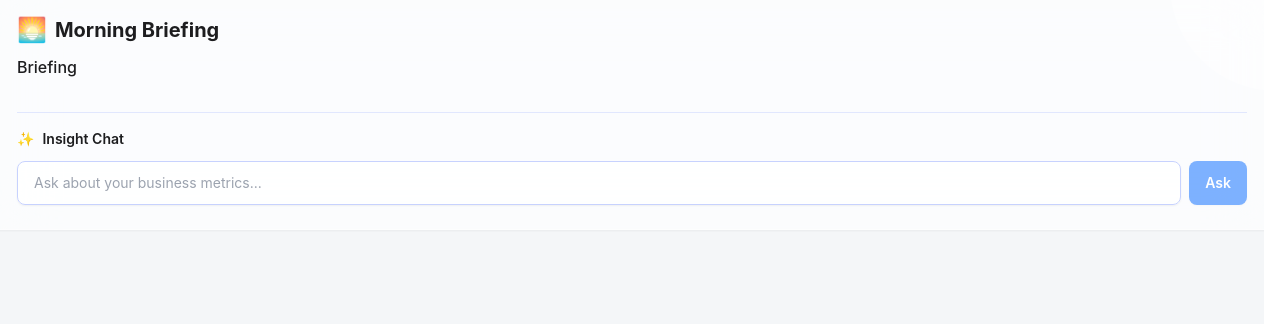
Test case: MorningBriefingCard › handles chat fallback reply correctly
Expected: the text "Briefing" is shown, [17,57,77,77]
Type "Hello agent" into the field with test id "insight-chat-input" at [599, 183], box [17,161,1181,205]
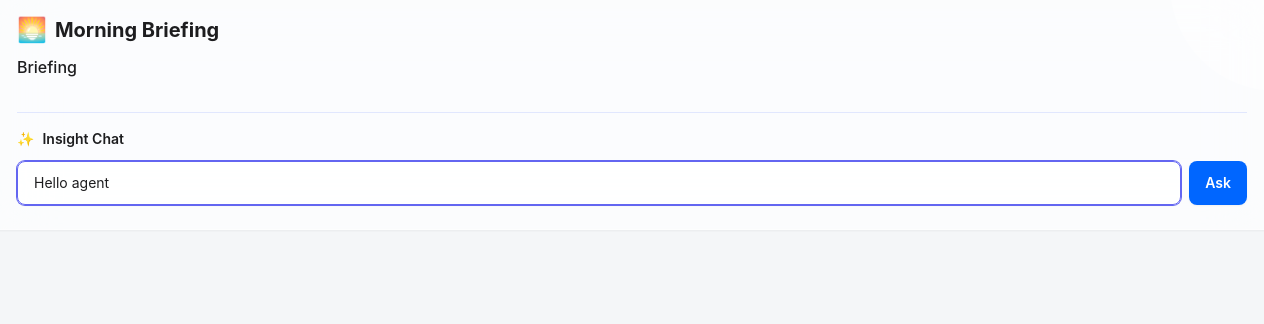
Click the button with test id "insight-chat-submit" at [1218, 183], box [1189,161,1247,205]
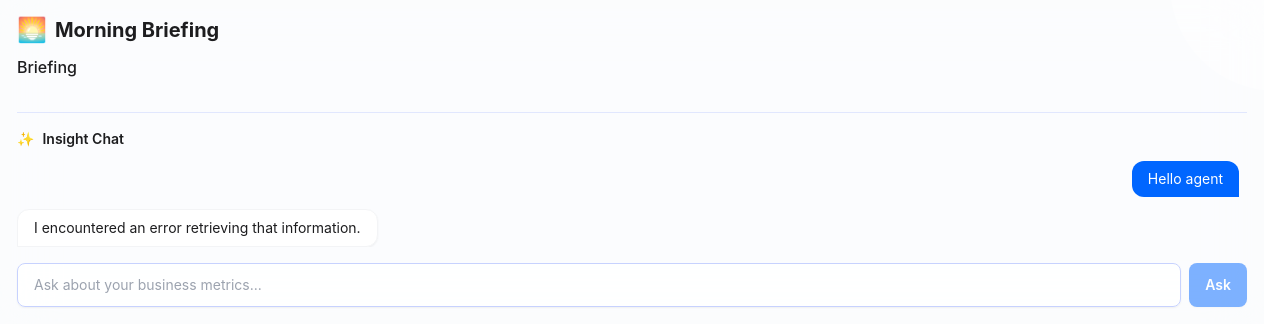
Expected: the text "I encountered an error retrieving that information." is shown, [17,209,378,247]
